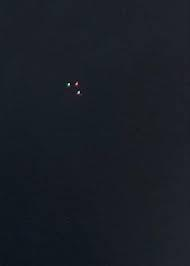Plane: (59, 72, 91, 104)
